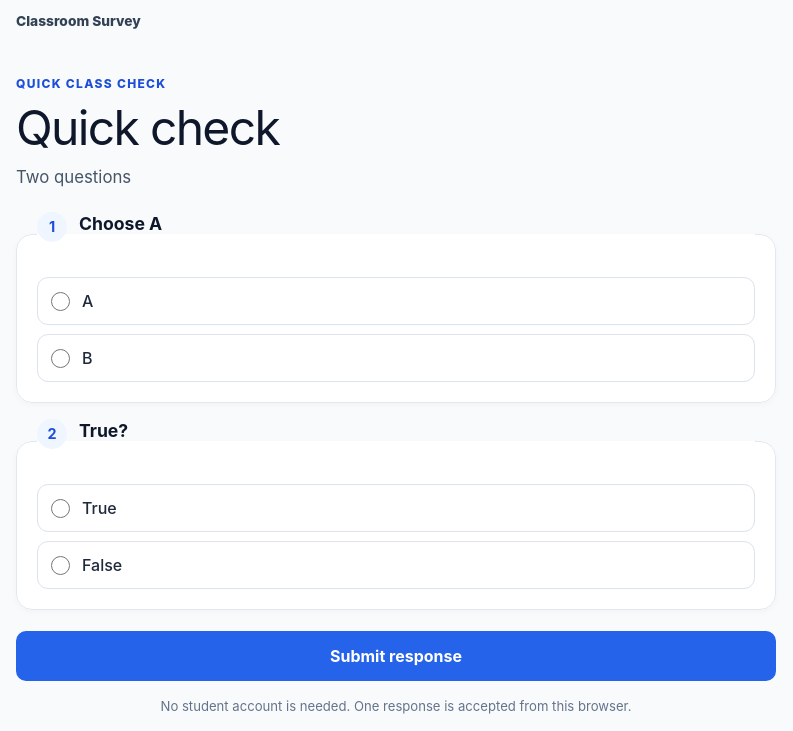
Test: StudentSurveyPage › lets students answer without signing in and confirms a successful submission
The width and height of the screenshot is (793, 731).
Expected: the heading "Quick check" is shown, [16,98,279,157]
Click the radio button labelled "A".
click(60, 302)  # box [51,292,70,311]
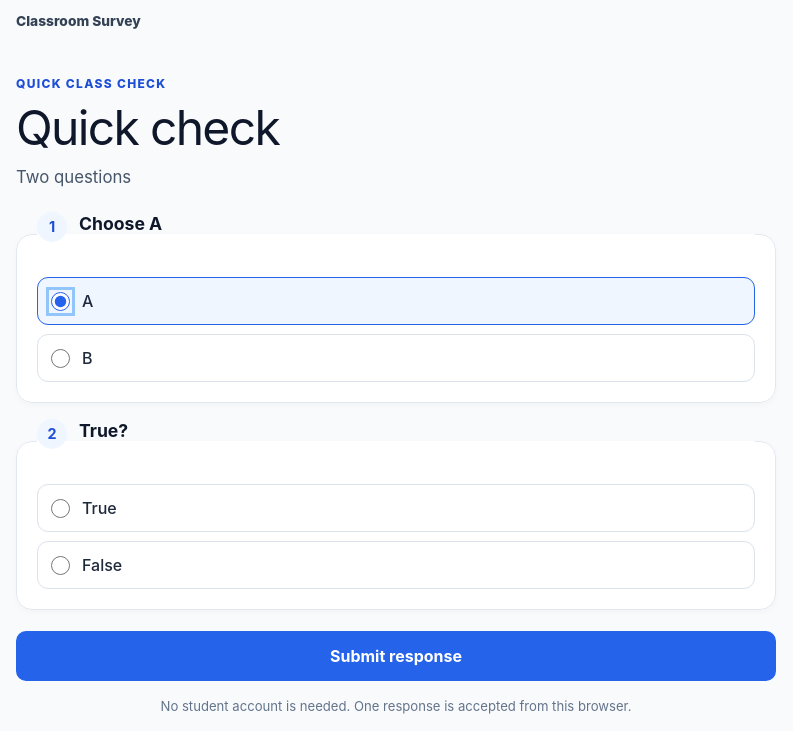
Click the radio button labelled "True".
click(60, 508)  # box [51,499,70,518]
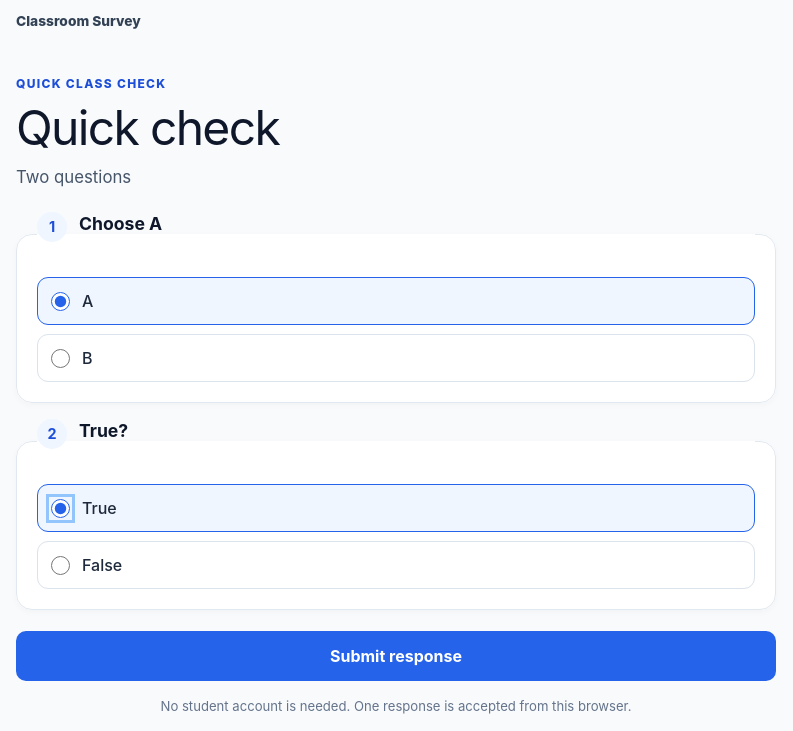
Click the button "Submit response".
click(396, 656)  # box [16,632,776,682]
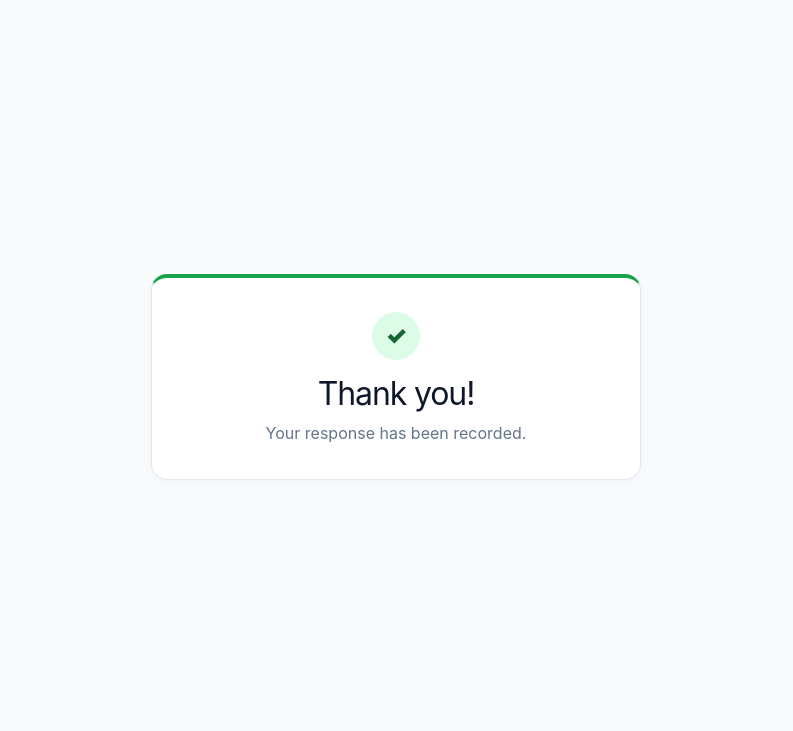
Now the heading "Thank you!" is shown, box [318,374,474,413]
